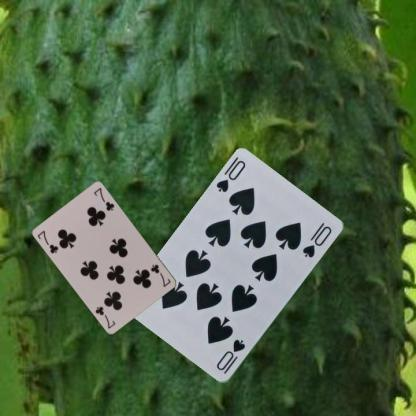10s: (214, 337, 247, 375), (213, 158, 247, 194)
7c: (35, 228, 60, 255), (148, 262, 172, 288)
